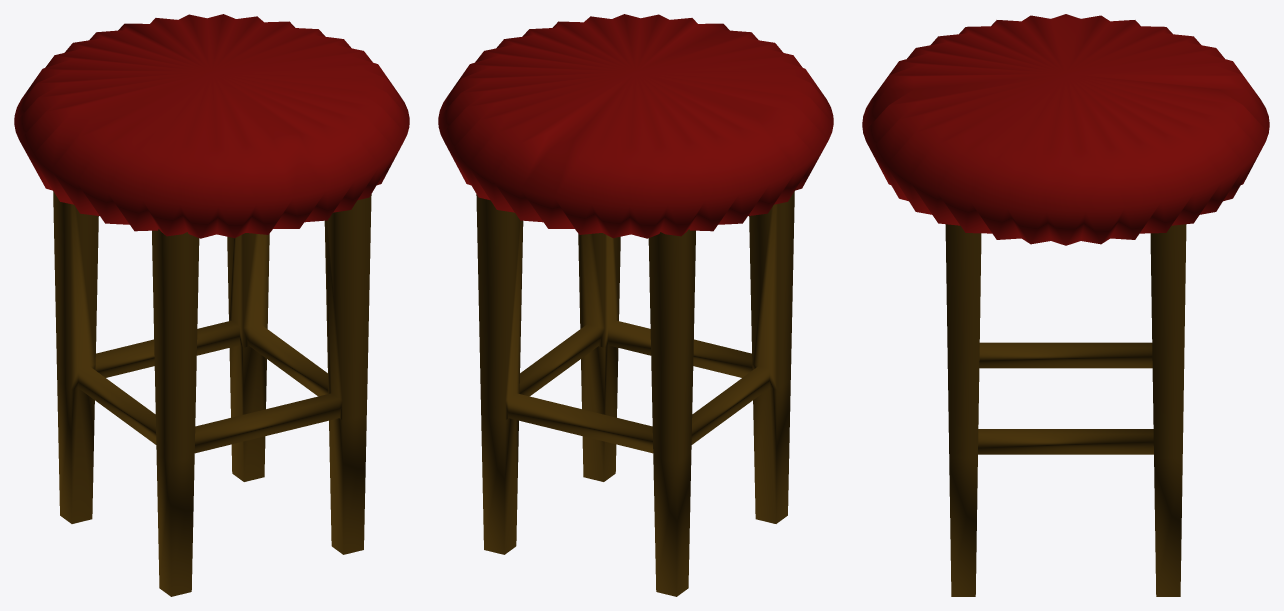
File: circle stool.fbx
The picture shows the model from 3 angles, left to right: view 1: azimuth 30°, elevation 25°; view 2: azimuth 150°, elevation 25°; view 3: azimuth 270°, elevation 25°; orthographic projection. The views are drawn at different scales.
Visible parts, largest first — view 1: Circle stool; view 2: Circle stool; view 3: Circle stool.
Part boxes in pixels (bbox=[...]): Circle stool: bbox=[14, 14, 409, 596]; Circle stool: bbox=[438, 14, 833, 596]; Circle stool: bbox=[862, 14, 1269, 596].
Bounding box in the file's own units: 398 × 511 × 398.
